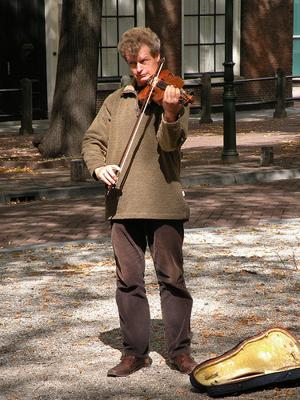person: (82, 26, 202, 378)
